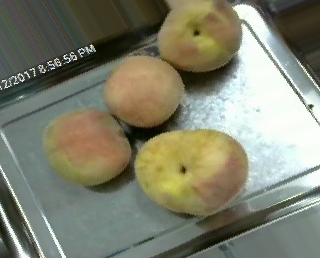Peach: (133, 128, 247, 214), (41, 109, 131, 186), (157, 0, 244, 71), (103, 55, 184, 127)
